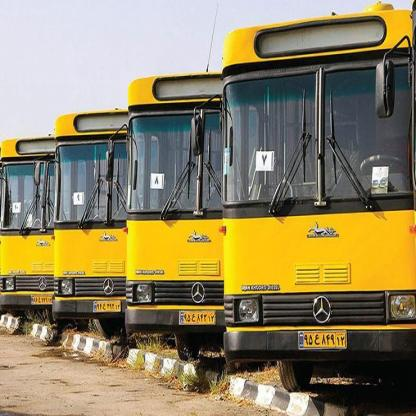Bus: (221, 4, 416, 399), (121, 49, 227, 350), (47, 99, 135, 325)
